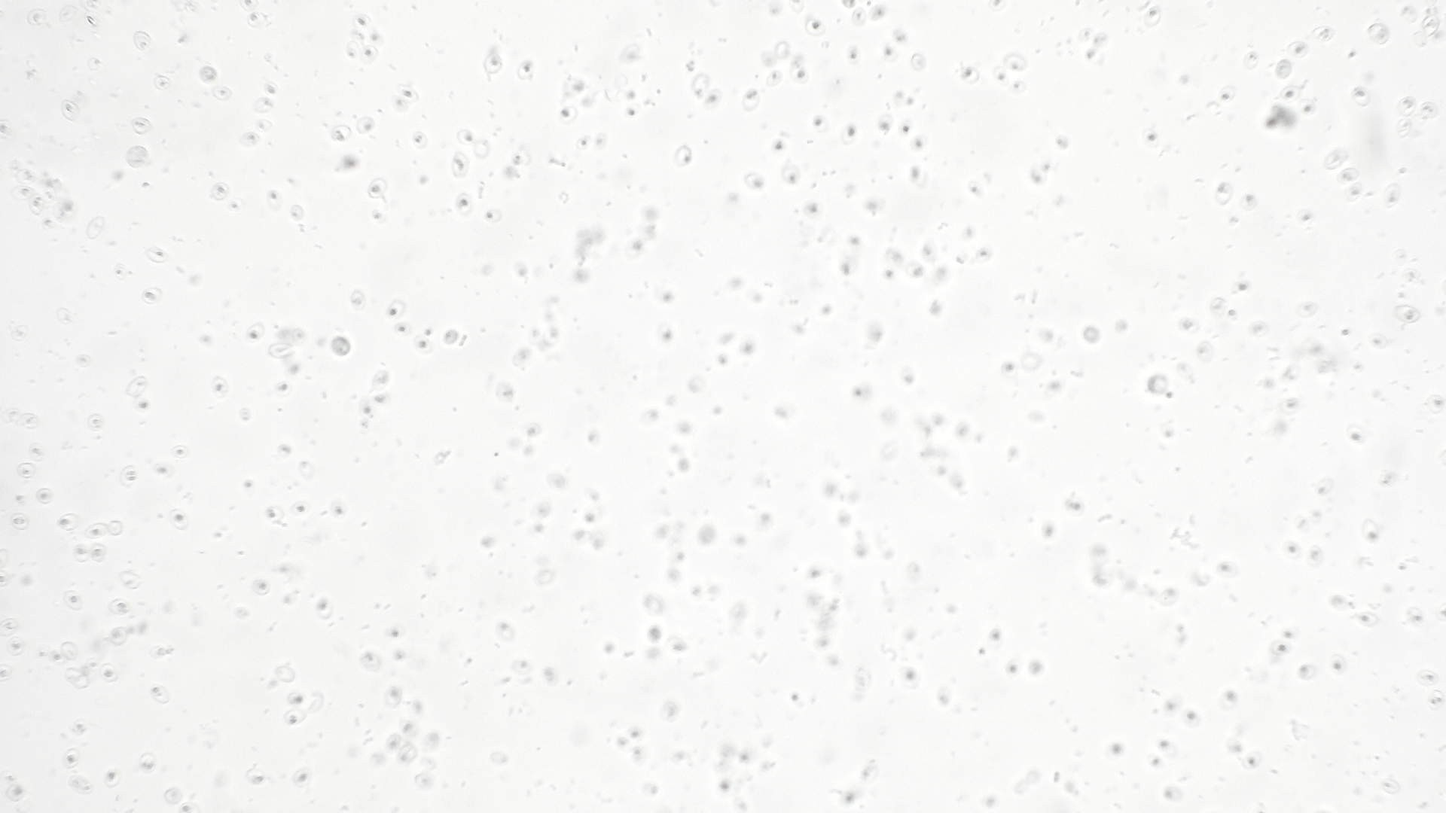yeasy: (448, 148, 475, 182), (684, 70, 712, 102), (999, 48, 1027, 75), (1313, 473, 1340, 500), (1139, 5, 1167, 31), (777, 161, 804, 187), (124, 372, 149, 400), (363, 178, 392, 202), (1380, 181, 1403, 211), (480, 47, 502, 78), (117, 461, 139, 492), (135, 748, 160, 775), (1215, 687, 1240, 714), (1390, 303, 1422, 324), (670, 143, 696, 168), (740, 86, 764, 113), (1393, 93, 1417, 120), (1344, 420, 1368, 447), (1213, 178, 1234, 208), (57, 98, 82, 123), (453, 191, 476, 218), (327, 495, 348, 524), (1283, 40, 1313, 60), (1368, 23, 1393, 47), (1304, 544, 1328, 569), (1178, 705, 1202, 730), (1278, 82, 1304, 105), (148, 680, 171, 706), (1361, 516, 1380, 547), (953, 65, 981, 86), (1157, 586, 1185, 607), (103, 595, 131, 616), (313, 593, 334, 621), (1194, 339, 1215, 367), (1293, 299, 1322, 319), (84, 517, 108, 541), (1241, 748, 1264, 773), (1307, 26, 1337, 45), (280, 707, 310, 726), (1138, 127, 1161, 151), (130, 114, 153, 138), (130, 30, 154, 53), (354, 112, 377, 136), (142, 245, 171, 264), (1240, 50, 1262, 75), (1002, 656, 1024, 681), (514, 57, 535, 83), (908, 48, 928, 75), (161, 784, 184, 807), (809, 114, 833, 136), (1417, 99, 1441, 121), (169, 508, 191, 532), (761, 69, 786, 90), (61, 589, 86, 610), (102, 765, 123, 790), (1354, 610, 1380, 630), (508, 657, 534, 677), (1329, 651, 1348, 678), (382, 730, 401, 757), (55, 509, 78, 531), (838, 123, 859, 147), (1351, 85, 1372, 109), (1414, 667, 1438, 688), (245, 321, 266, 345), (209, 375, 230, 399), (139, 285, 163, 306), (329, 123, 353, 144), (396, 82, 420, 103), (99, 660, 120, 684), (8, 184, 36, 202), (1327, 592, 1352, 612), (1294, 662, 1319, 682), (1246, 319, 1271, 339), (264, 187, 284, 212), (702, 87, 724, 109), (1064, 497, 1085, 520), (1342, 181, 1365, 202), (804, 17, 828, 37), (481, 207, 505, 227), (108, 624, 128, 648), (789, 68, 814, 87), (15, 461, 40, 480), (847, 9, 869, 30), (289, 765, 310, 787), (1238, 191, 1258, 214), (8, 512, 31, 532), (87, 215, 104, 242), (238, 130, 263, 148), (383, 684, 401, 709), (1296, 206, 1316, 228), (386, 299, 406, 321), (34, 486, 56, 506), (556, 105, 579, 124), (1218, 85, 1241, 104), (1426, 689, 1444, 713), (1334, 168, 1361, 184), (343, 38, 361, 62), (245, 12, 270, 29), (1297, 97, 1317, 118), (1282, 540, 1303, 560), (210, 181, 230, 202), (413, 335, 434, 355), (1395, 117, 1414, 139), (1216, 562, 1239, 580), (87, 542, 105, 565), (243, 767, 266, 785), (1090, 572, 1114, 589), (1268, 641, 1295, 656), (1368, 332, 1389, 351), (844, 44, 862, 66), (211, 84, 233, 102), (263, 504, 285, 522), (453, 126, 474, 144), (1426, 393, 1444, 414), (252, 96, 273, 114), (284, 691, 306, 708), (350, 289, 366, 312), (287, 502, 313, 516), (361, 46, 380, 65), (251, 577, 270, 596), (71, 542, 89, 562), (992, 66, 1008, 88), (288, 202, 304, 224), (351, 13, 373, 29), (63, 747, 79, 769), (411, 132, 429, 151), (169, 443, 191, 458), (272, 381, 291, 398), (392, 321, 413, 336), (89, 413, 104, 434), (1008, 79, 1026, 96), (153, 73, 171, 90), (1078, 26, 1094, 43)
